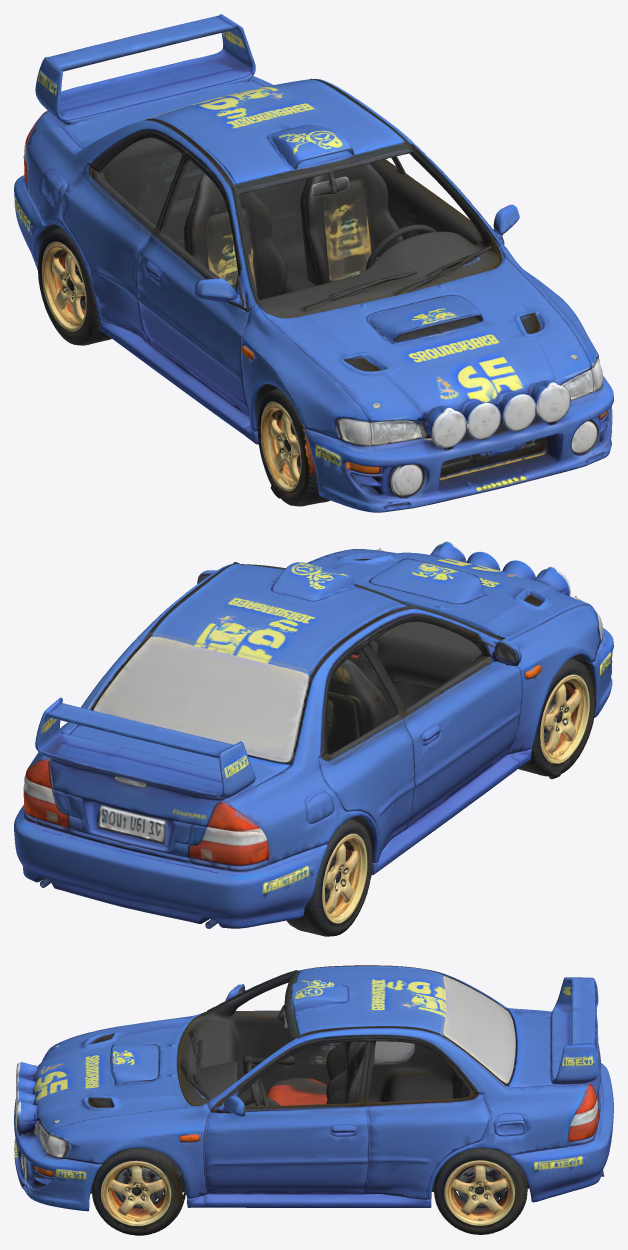
The model's file is subaru_gc8_parts.glb.
3 renders of one model, top to bottom at view 1: azimuth 30°, elevation 25°; view 2: azimuth 150°, elevation 25°; view 3: azimuth 270°, elevation 25°, orthographic. The views are drawn at different scales.
Parts seen in each view (by area): view 1: tripo_part_0, tripo_part_1, tripo_part_7, tripo_part_11, tripo_part_2, tripo_part_5, tripo_part_6, tripo_part_12, tripo_part_13, tripo_part_8, tripo_part_14, tripo_part_22 (+3 smaller); view 2: tripo_part_0, tripo_part_10, tripo_part_7, tripo_part_1, tripo_part_5, tripo_part_6, tripo_part_2, tripo_part_12, tripo_part_14, tripo_part_13, tripo_part_8, tripo_part_21 (+1 smaller); view 3: tripo_part_0, tripo_part_1, tripo_part_4, tripo_part_3, tripo_part_7, tripo_part_10, tripo_part_2, tripo_part_12, tripo_part_14, tripo_part_11, tripo_part_8, tripo_part_20 (+3 smaller).
Part boxes in pixels (<box>): tripo_part_0: <box>14,76,613,512</box>; tripo_part_1: <box>98,138,505,318</box>; tripo_part_7: <box>35,14,255,125</box>; tripo_part_11: <box>300,163,403,285</box>; tripo_part_2: <box>184,173,287,299</box>; tripo_part_5: <box>38,227,111,345</box>; tripo_part_6: <box>257,388,330,506</box>; tripo_part_12: <box>369,295,484,344</box>; tripo_part_13: <box>424,401,500,450</box>; tripo_part_8: <box>498,380,570,431</box>; tripo_part_14: <box>271,125,354,169</box>; tripo_part_22: <box>337,419,420,446</box>; tripo_part_0: <box>14,548,613,928</box>; tripo_part_10: <box>92,636,309,758</box>; tripo_part_7: <box>35,697,255,801</box>; tripo_part_1: <box>235,562,504,754</box>; tripo_part_5: <box>286,818,372,936</box>; tripo_part_6: <box>518,657,596,779</box>; tripo_part_2: <box>326,659,388,754</box>; tripo_part_12: <box>369,558,483,603</box>; tripo_part_14: <box>271,562,354,600</box>; tripo_part_13: <box>502,560,570,596</box>; tripo_part_8: <box>430,541,500,570</box>; tripo_part_21: <box>361,643,406,714</box>; tripo_part_0: <box>14,965,613,1211</box>; tripo_part_1: <box>177,971,469,1106</box>; tripo_part_4: <box>434,1148,527,1234</box>; tripo_part_3: <box>92,1148,186,1235</box>; tripo_part_7: <box>550,977,598,1084</box>; tripo_part_10: <box>443,976,513,1082</box>; tripo_part_2: <box>266,1041,365,1105</box>; tripo_part_12: <box>110,1044,158,1086</box>; tripo_part_14: <box>291,979,346,1012</box>; tripo_part_11: <box>326,1042,374,1103</box>; tripo_part_8: <box>16,1090,36,1135</box>; tripo_part_20: <box>355,1041,375,1104</box>.
Bounding box in the file's own units: 0.4738 × 0.3523 × 0.9797.
25 materials, 25 textured.
